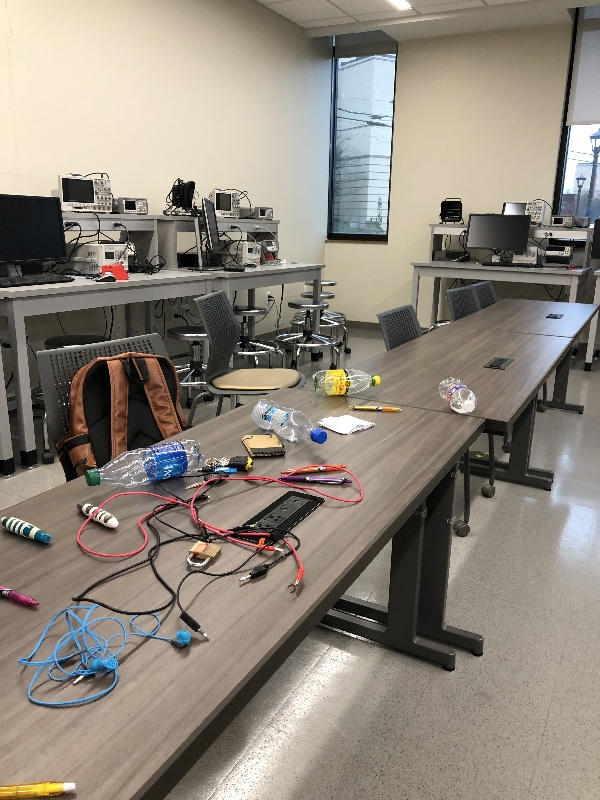bottle: (77, 437, 208, 489), (247, 395, 327, 453), (434, 373, 478, 418), (310, 368, 383, 395)
